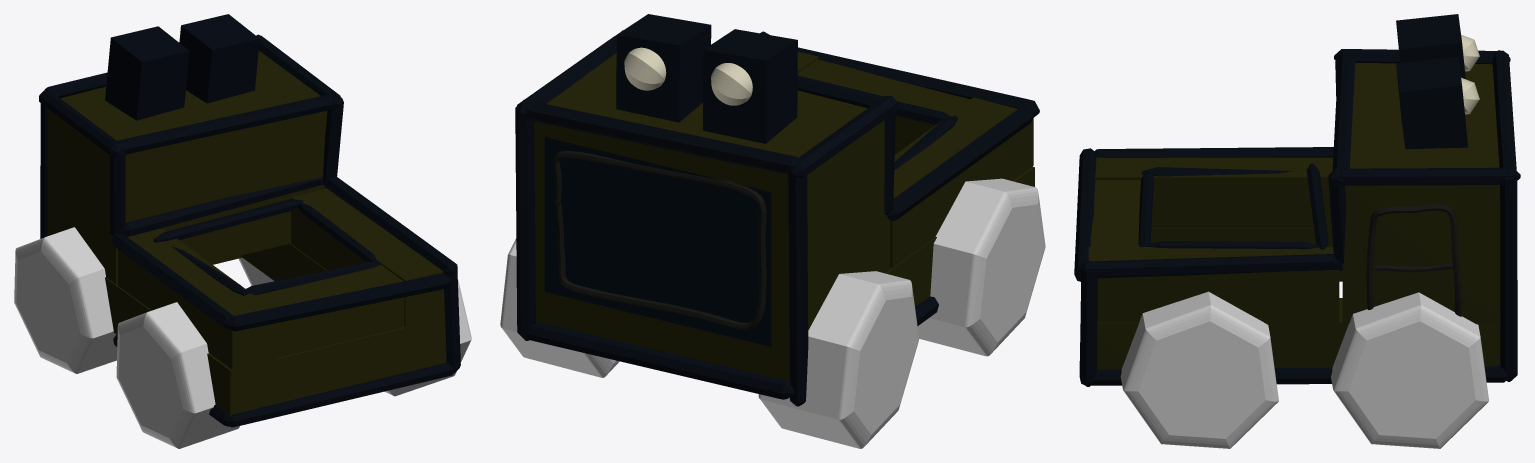
The model's file is Baukipper.fbx.
The picture shows the model from 3 angles, left to right: view 1: azimuth 30°, elevation 25°; view 2: azimuth 150°, elevation 25°; view 3: azimuth 270°, elevation 25°; orthographic projection. The views are drawn at different scales.
Visible parts, largest first — view 1: Paint, Rad (×3); view 2: Paint, Rad (×3); view 3: Paint, Rad (×2).
Part boxes in pixels (x1,y1,x2,y2): Paint: (39, 14, 460, 427); Rad (×3): (14, 227, 471, 448); Paint: (515, 14, 1039, 406); Rad (×3): (500, 178, 1045, 448); Paint: (1074, 14, 1520, 386); Rad (×2): (1120, 291, 1488, 448).
Bounding box in the file's own units: 2.72 × 2.62 × 3.22.
